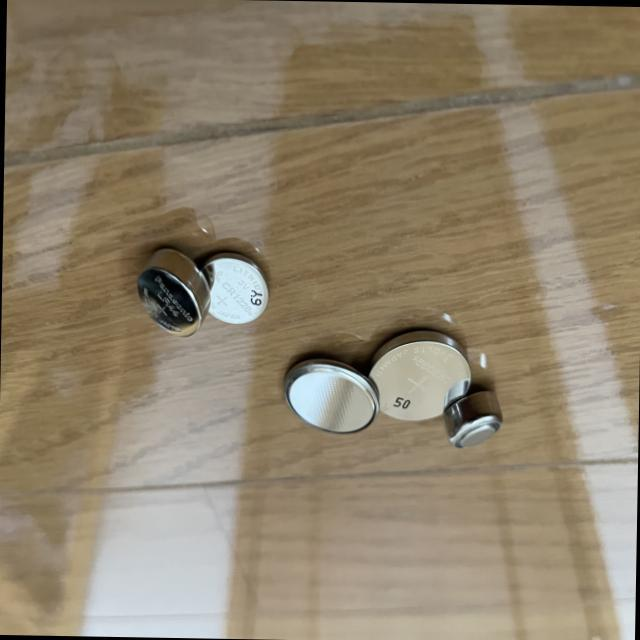COIN: (363, 327, 472, 423), (278, 352, 379, 436), (132, 248, 210, 343), (198, 248, 270, 322), (441, 382, 502, 453)
